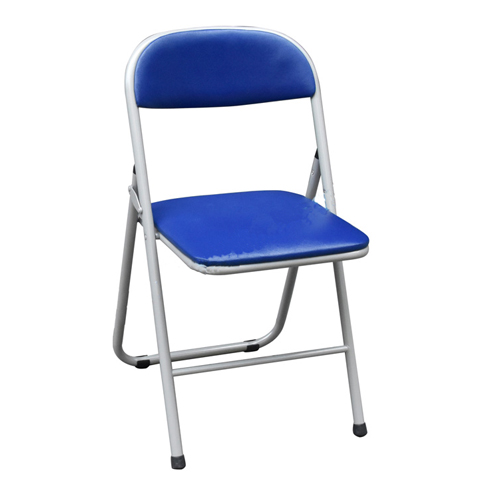seat: (105, 22, 372, 472)
